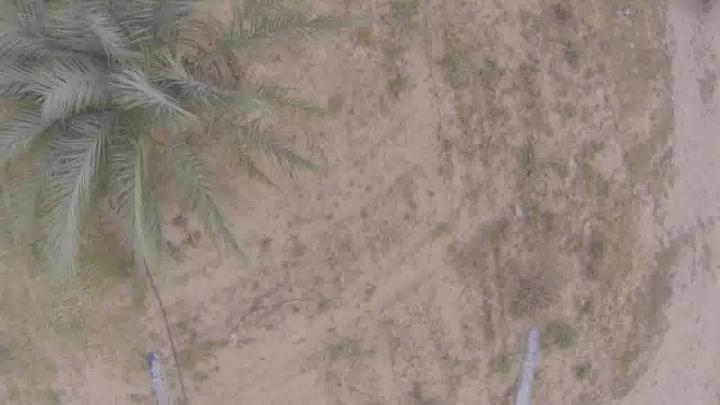Date-Palm-Crown: (16, 0, 234, 204)
